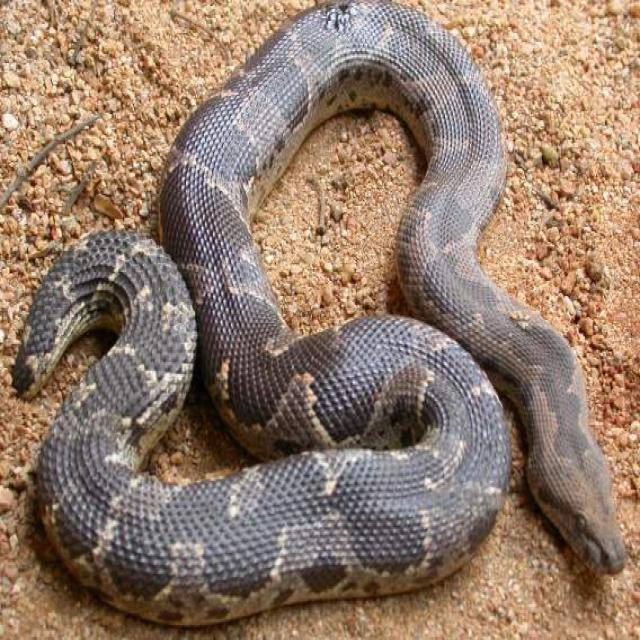Snake: (8, 0, 630, 631)
